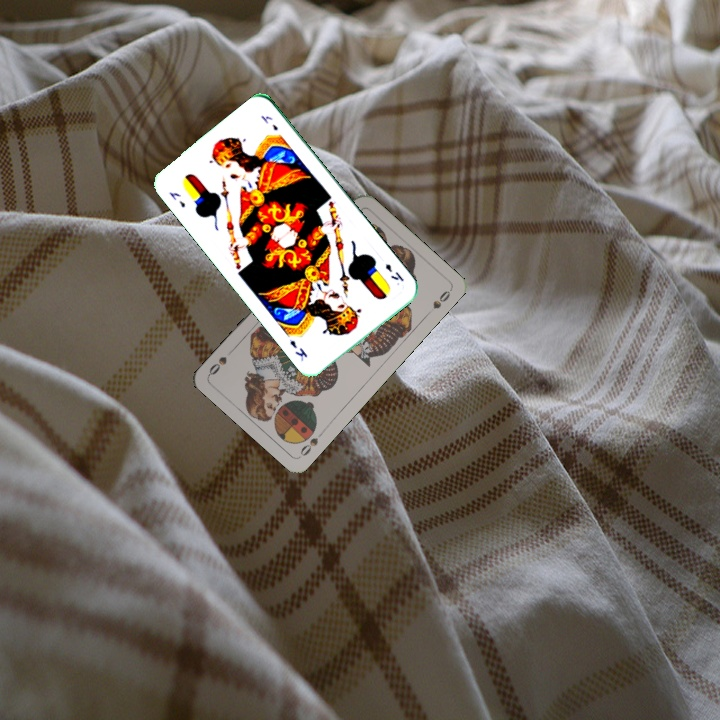EK: (381, 260, 406, 284), (165, 188, 188, 210)
SO: (296, 433, 321, 459)
